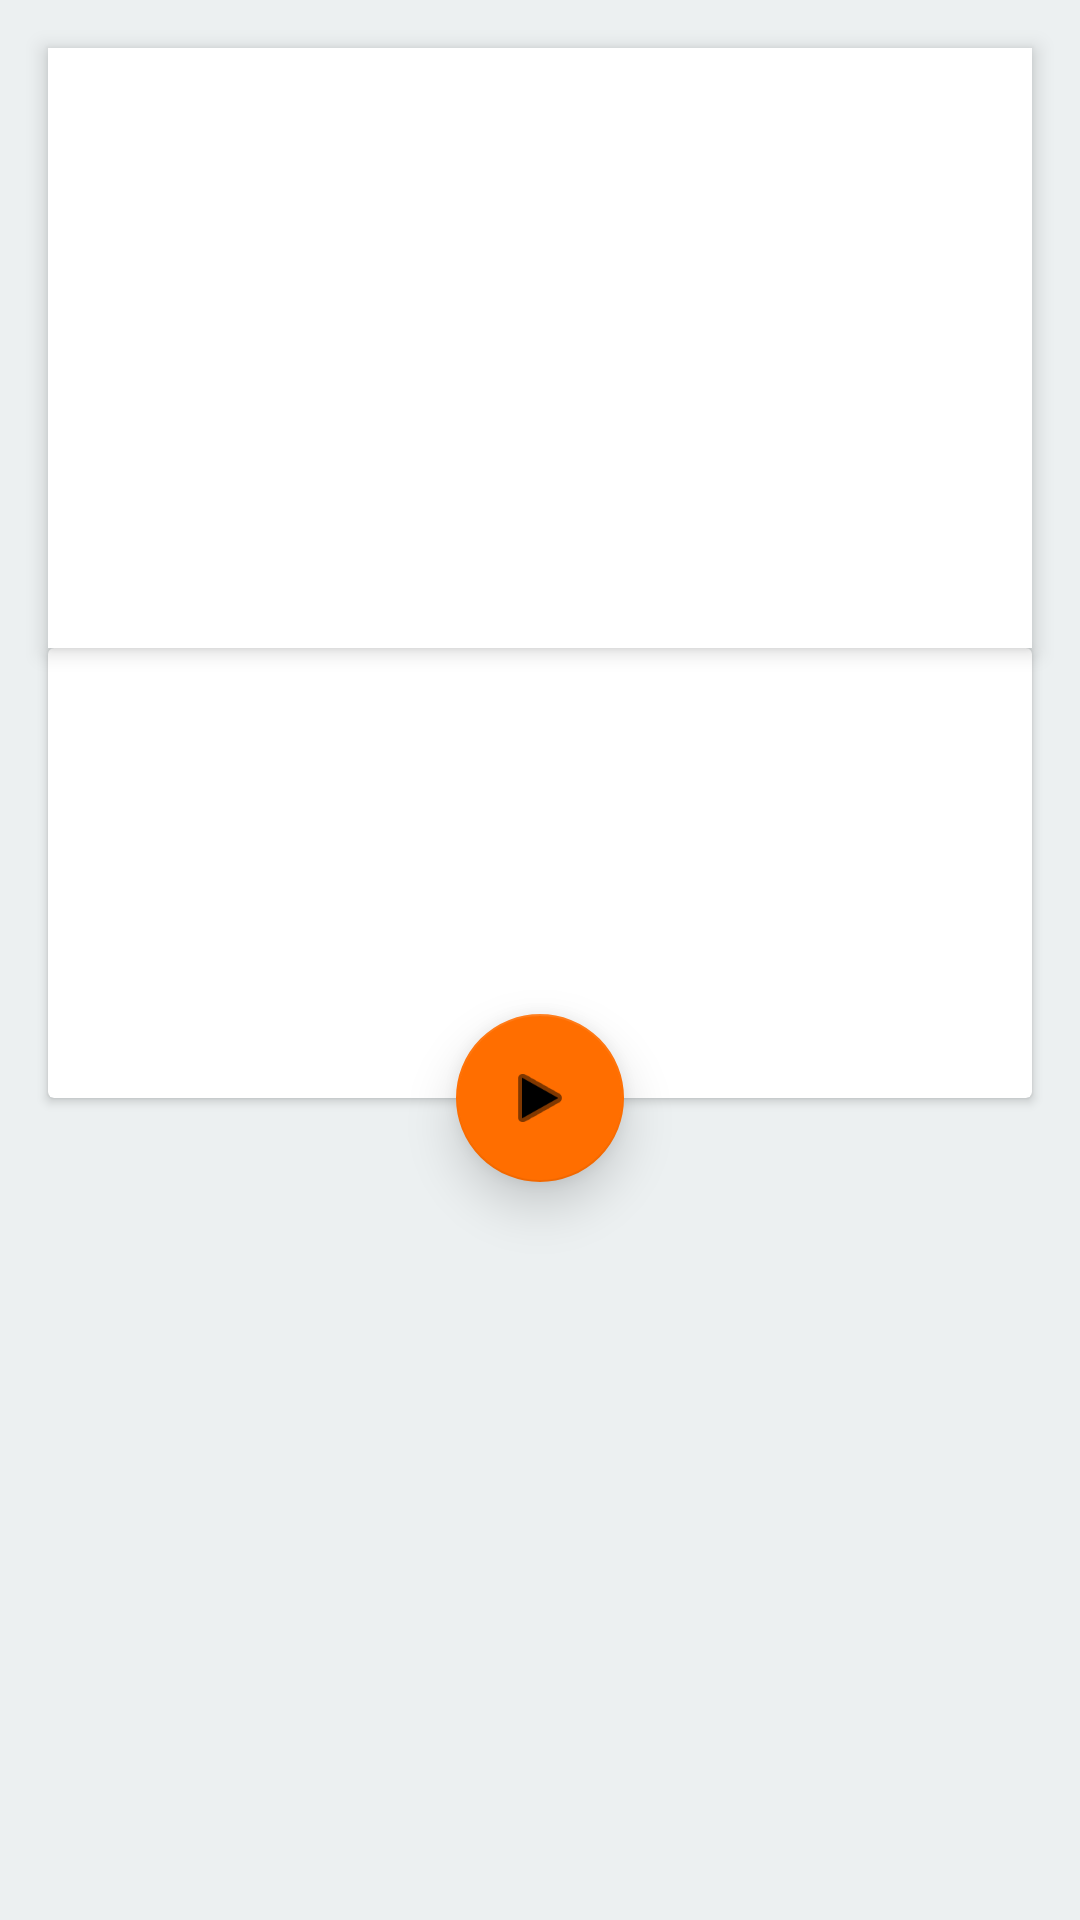

Screen size 1080 × 1920. Icon name, then its center in pixels as point (x, y):
play: point (540, 1098)
